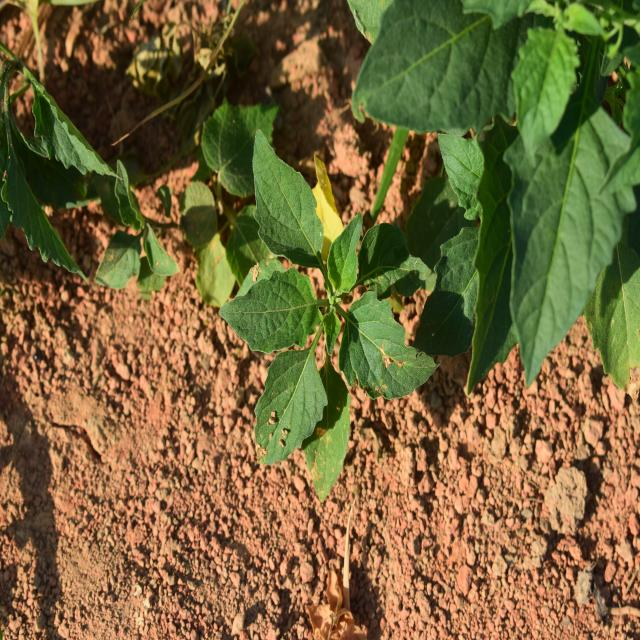Black_nightshade: (235, 140, 444, 512)
